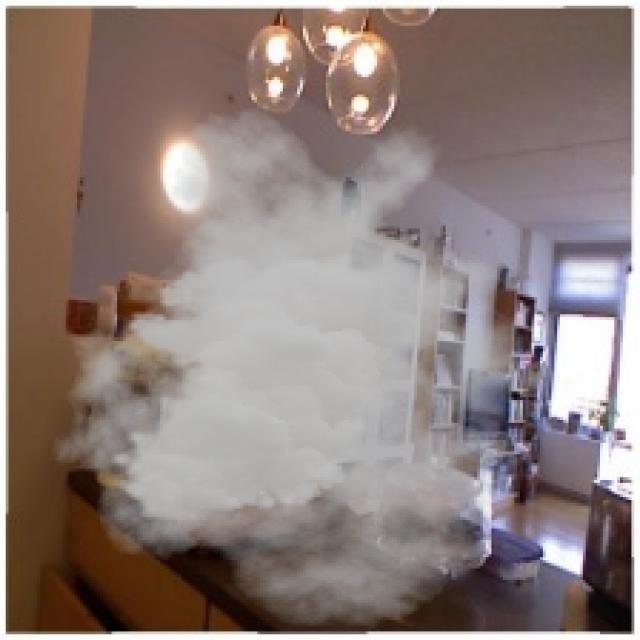smoke: (51, 106, 583, 628)
